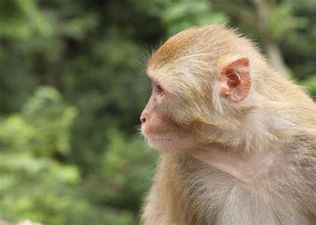monkey: (67, 15, 311, 209)
